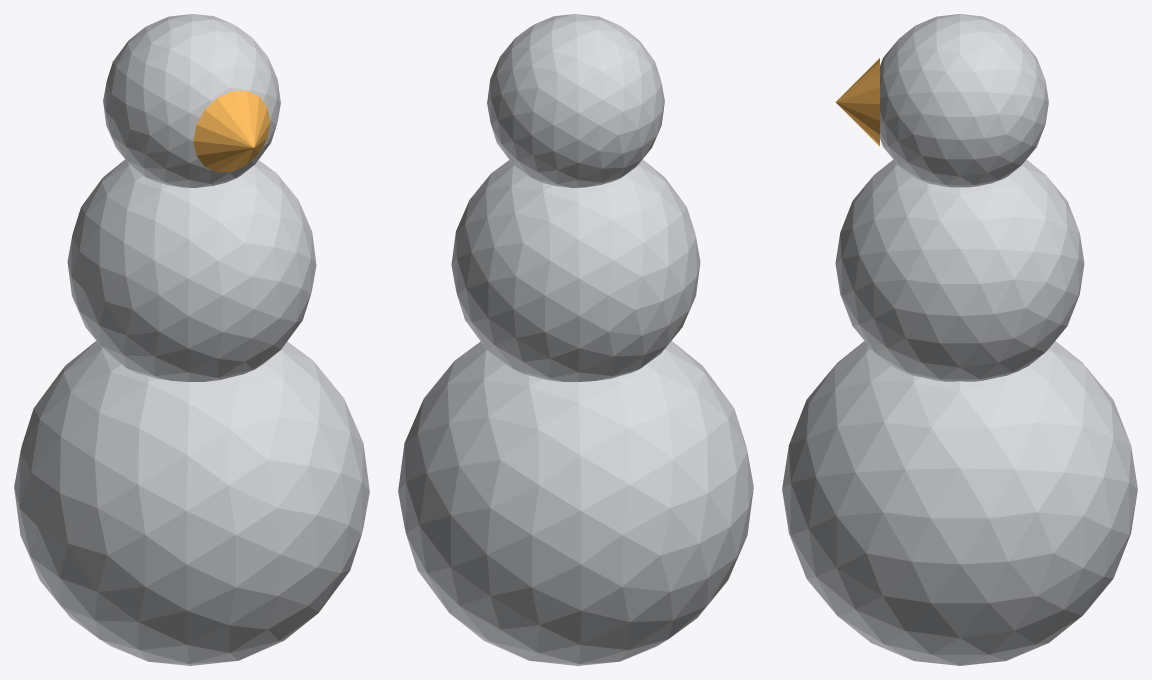
File: snowman.glb
3 views of the same model, side by side, from view 1: azimuth 30°, elevation 25°; view 2: azimuth 150°, elevation 25°; view 3: azimuth 270°, elevation 25° (orthographic).
Parts seen in each view (by area): view 1: body, torso, head, nose; view 2: body, torso, head; view 3: body, torso, head, nose.
Boxes of the visible parts, x1=… form: body: x1=14, y1=341, x2=369, y2=665; torso: x1=67, y1=159, x2=316, y2=381; head: x1=103, y1=14, x2=280, y2=187; nose: x1=193, y1=90, x2=270, y2=172; body: x1=398, y1=341, x2=753, y2=665; torso: x1=451, y1=159, x2=700, y2=381; head: x1=487, y1=14, x2=664, y2=187; body: x1=782, y1=341, x2=1137, y2=665; torso: x1=835, y1=159, x2=1084, y2=381; head: x1=880, y1=14, x2=1048, y2=187; nose: x1=835, y1=58, x2=879, y2=146.
Size of the model in its own units: 2 by 3.9 by 2.
